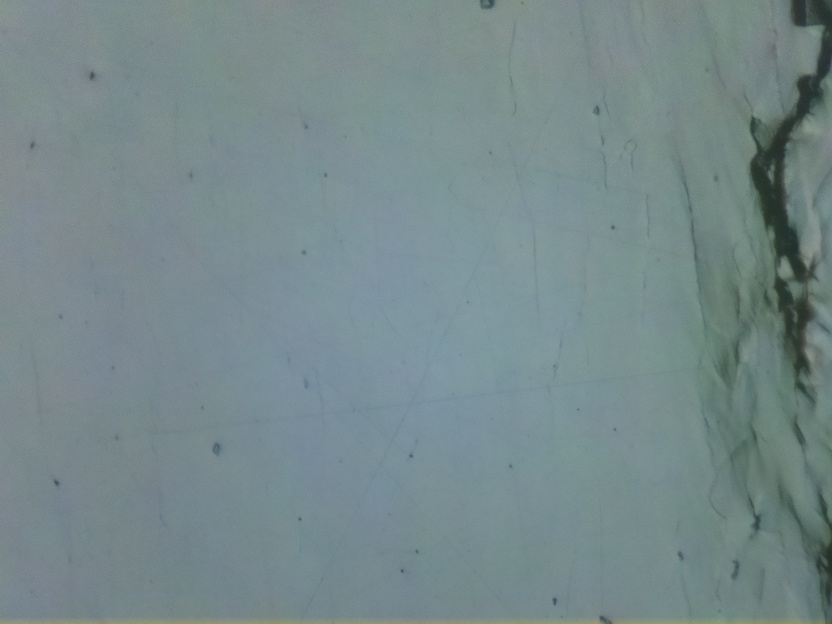crack: (747, 0, 829, 396)
